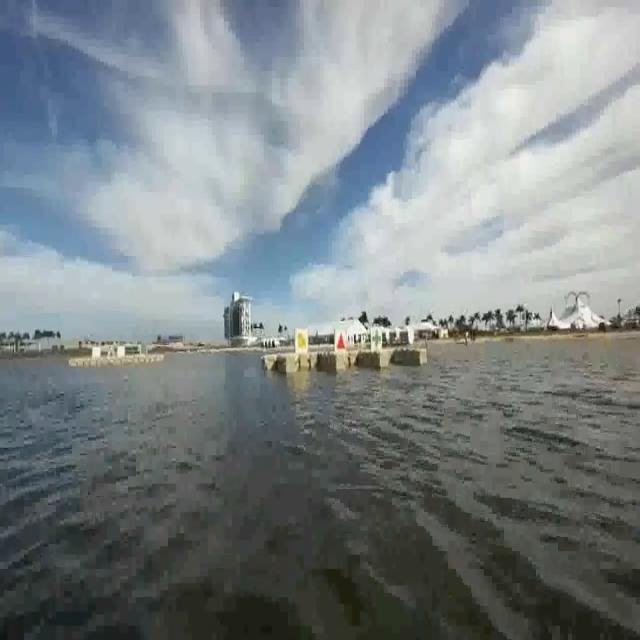blue-cross: (372, 326, 382, 351)
red-dot: (337, 331, 346, 352)
yellow-duck: (294, 324, 307, 352)
